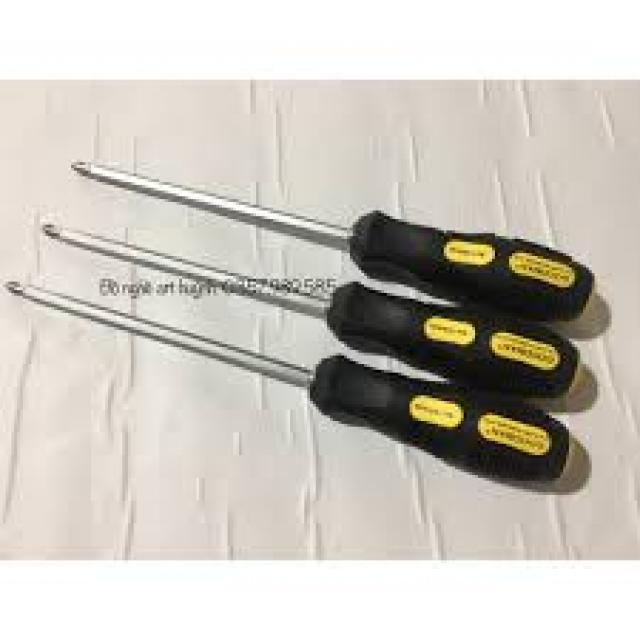screwdriver: (125, 293, 542, 344)
